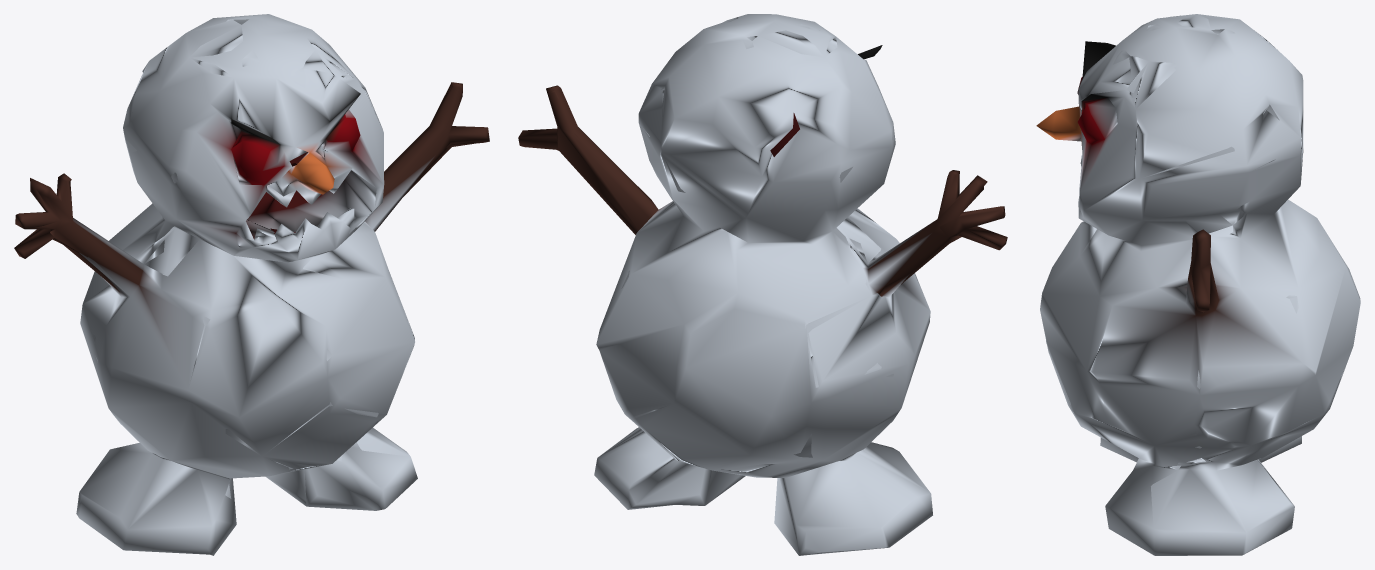
The model's file is gen3d-evil-snowman-lod1.glb.
3 views of the same model, side by side, from view 1: azimuth 30°, elevation 25°; view 2: azimuth 150°, elevation 25°; view 3: azimuth 270°, elevation 25° (orthographic). The views are drawn at different scales.
Parts seen in each view (by area): view 1: part_0; view 2: part_0; view 3: part_0.
Part boxes in pixels (<box>): part_0: <box>14,14,489,555</box>; part_0: <box>518,14,1007,555</box>; part_0: <box>1036,14,1360,555</box>.
Bounding box in the file's own units: 1.06 × 0.9998 × 0.6409.
